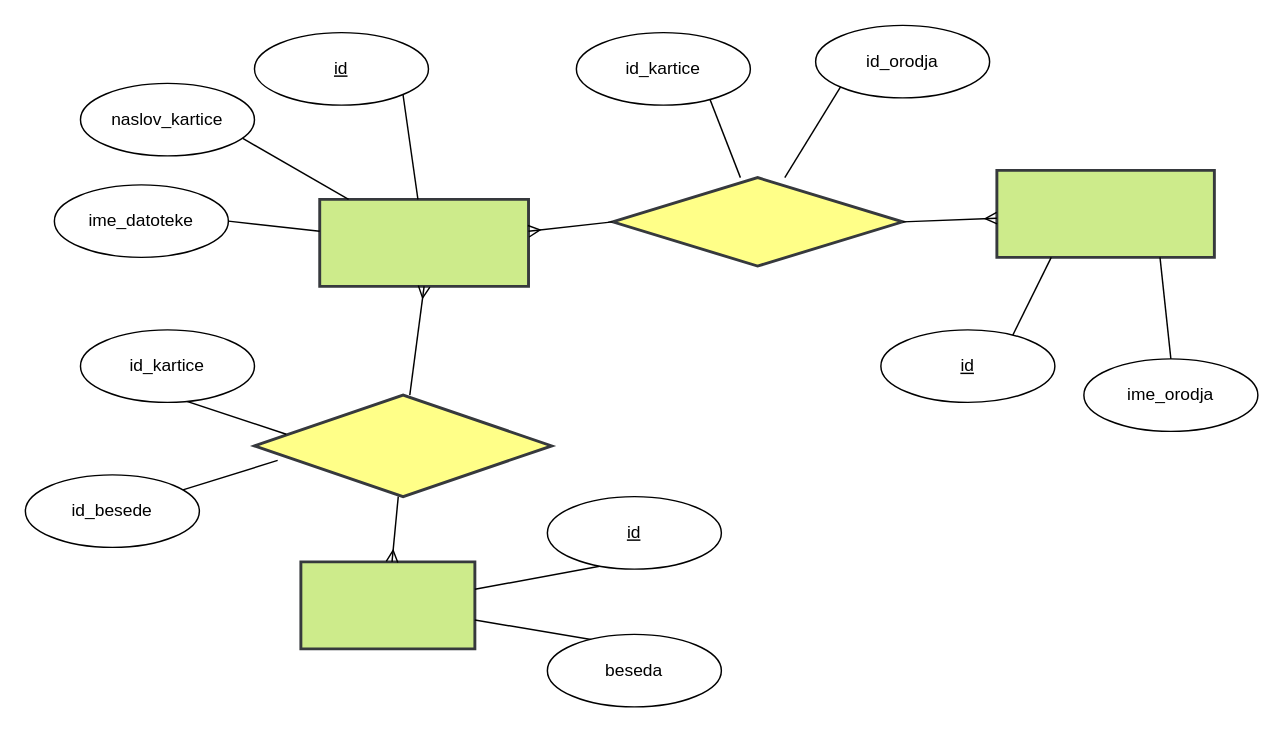
This 1283x732 diagram has some shape labels left out. The shapes that lost their labels are listed below. From the top down, each one's box as (x1, y1, x2, y2) in pixels, then its label:
(610, 175, 903, 267): kartica_uci_programsko_orodje
(995, 168, 1215, 258): programsko_ orodje
(318, 197, 529, 287): konceptna_kartica
(252, 393, 552, 497): kartica_vsebuje_kljucno_besedo
(299, 560, 476, 650): kljucna_beseda
